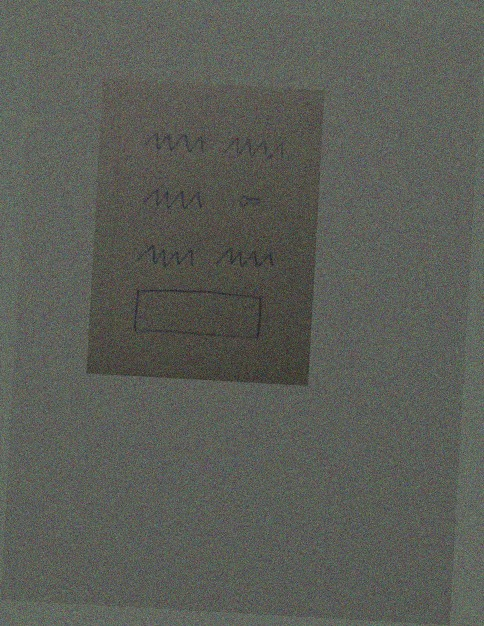switch: (234, 188, 266, 211)
text: (135, 181, 209, 217), (130, 239, 201, 274), (211, 240, 279, 275), (221, 132, 289, 165), (141, 124, 211, 156)
text_input: (129, 283, 270, 344)
